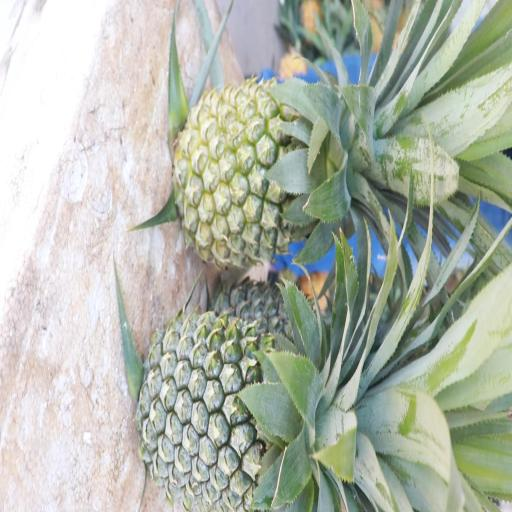Pineapple - v8 v1: (183, 82, 351, 269)
